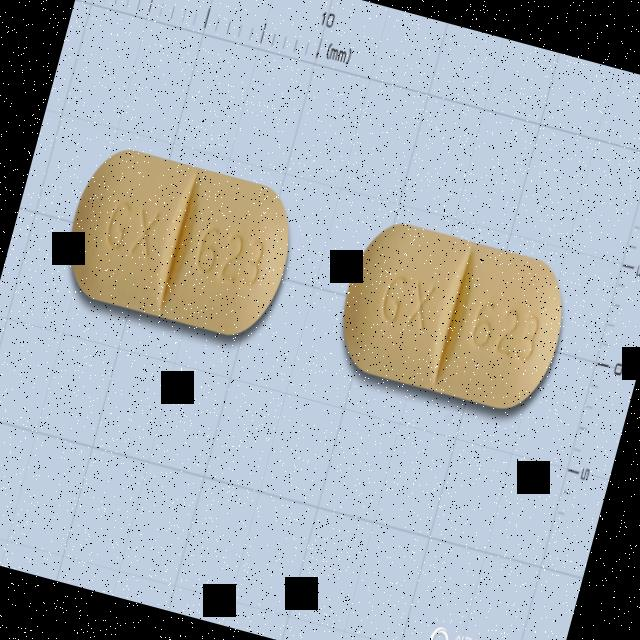Ziagen Tab: (53, 138, 304, 348), (326, 214, 578, 420)
